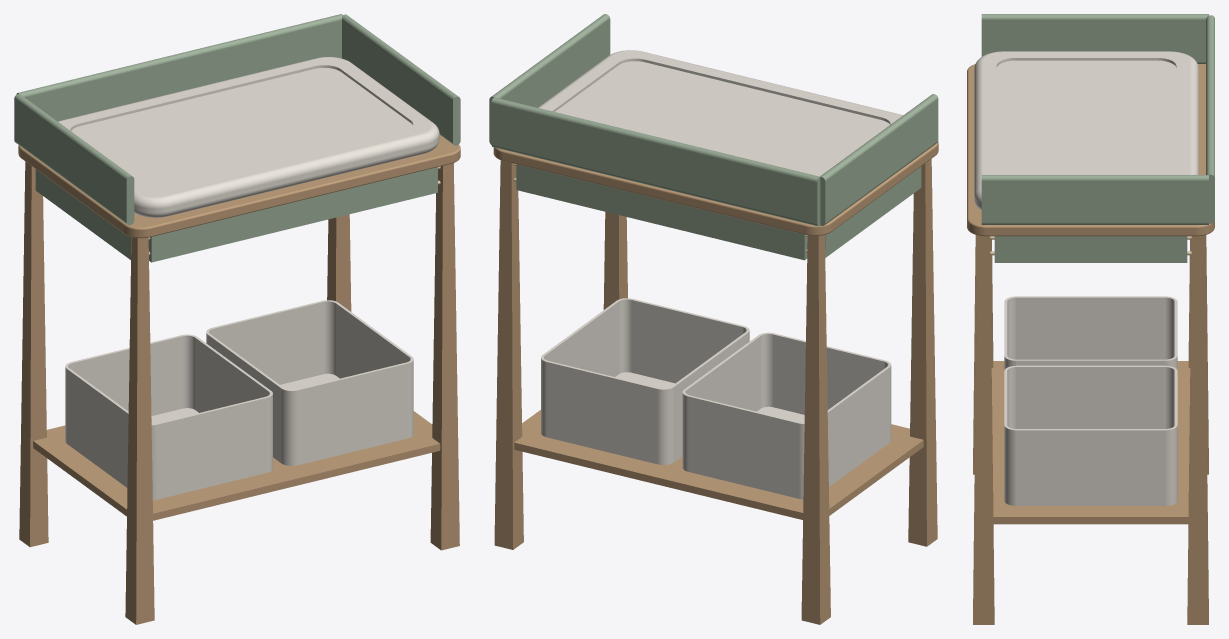
The picture shows the model from 3 angles, left to right: view 1: azimuth 30°, elevation 25°; view 2: azimuth 150°, elevation 25°; view 3: azimuth 270°, elevation 25°; orthographic projection.
Parts seen in each view (by area): view 1: fabric.3, fabric.1, fabric.2, body.5, wood.5, wood.6, wood.4, wood.3, body.2, wood.1, body.7, body.6 (+2 smaller); view 2: fabric.1, fabric.3, fabric.2, body.5, wood.3, wood.6, wood.2, wood.5, body.1, body.7, wood.1, body.6 (+2 smaller); view 3: fabric.3, fabric.2, fabric.1, body.6, body.7, wood.6, wood.2, wood.4, body.3, wood.1, body.5, wood.3 (+1 smaller).
Part boxes in pixels (x1,y1,x2,y2): fabric.3: (58,57,439,217); fabric.1: (65,334,272,500); fabric.2: (206,300,413,465); body.5: (16,14,342,121); wood.5: (125,237,154,624); wood.6: (33,411,440,520); wood.4: (430,163,459,550); wood.3: (19,161,48,547); body.2: (148,167,437,262); wood.1: (18,135,460,238); body.7: (14,94,134,225); body.6: (342,14,460,145); fabric.1: (682,332,891,499); fabric.3: (538,50,902,176); fabric.2: (541,298,749,464); body.5: (491,97,820,226); wood.3: (801,235,830,624); wood.6: (514,410,923,519); wood.2: (494,160,523,549); wood.5: (908,159,937,546); body.1: (516,164,807,260); body.7: (820,94,938,225); wood.1: (493,142,938,235); body.6: (489,14,610,144); fabric.3: (974,51,1198,210); fabric.2: (1004,365,1177,505); fabric.1: (1004,296,1177,370); body.6: (981,175,1208,224); body.7: (981,14,1208,63); wood.6: (991,361,1190,524); wood.2: (1187,235,1208,624); wood.4: (973,235,994,624); body.3: (994,236,1187,262); wood.1: (967,64,1214,236); body.5: (1206,15,1214,223); wood.3: (1188,235,1208,474).
Bounding box in the file's own units: 0.792 × 1.01 × 0.504.
